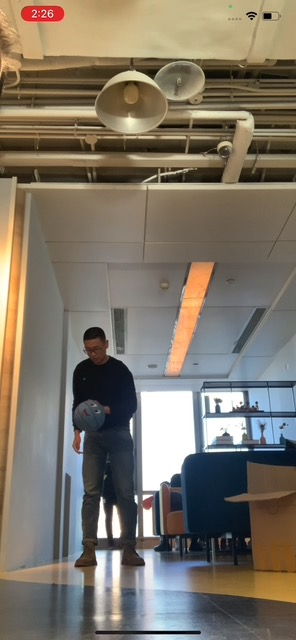ball: (74, 399, 106, 434)
